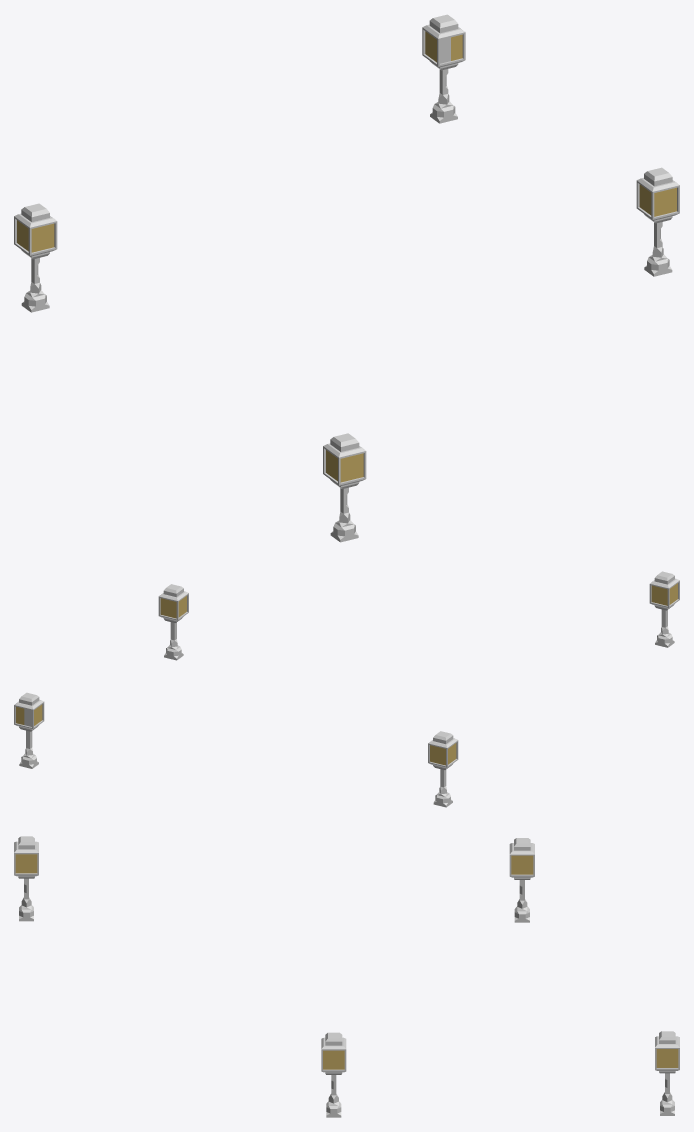
The model's file is pontonLampes.fbx.
3 views of the same model, one above another, from view 1: azimuth 30°, elevation 25°; view 2: azimuth 150°, elevation 25°; view 3: azimuth 270°, elevation 25° (orthographic). The views are drawn at different scales.
Visible parts, largest first — view 1: Cube.015; view 2: Cube.015; view 3: Cube.015.
Boxes of the visible parts, x1,y1,x2,y2 form: Cube.015: (14, 14, 679, 542); Cube.015: (14, 571, 679, 807); Cube.015: (14, 836, 679, 1117).
Size of the model in its own units: 0.2335 by 0.0413 by 0.3177.
